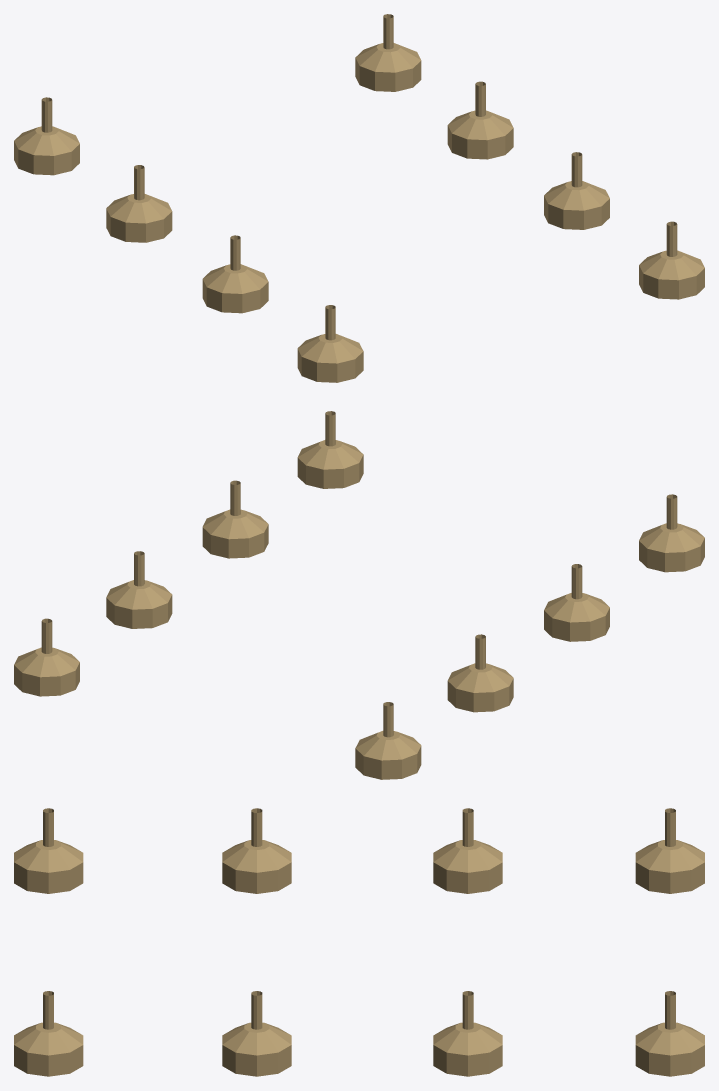
The model's file is Overhead_Lights.fbx.
3 renders of one model, top to bottom at view 1: azimuth 30°, elevation 25°; view 2: azimuth 150°, elevation 25°; view 3: azimuth 270°, elevation 25°, orthographic. The views are drawn at different scales.
Visible parts, largest first — view 1: Overhead_Lights; view 2: Overhead_Lights; view 3: Overhead_Lights.
Boxes of the visible parts, box(x1,y1,x2,y2) form: Overhead_Lights: box(14, 14, 704, 382); Overhead_Lights: box(14, 411, 704, 779); Overhead_Lights: box(14, 808, 704, 1076).
Size of the model in its own units: 73 by 10.84 by 99.88.
Materials: 2 (1 with a texture image).
